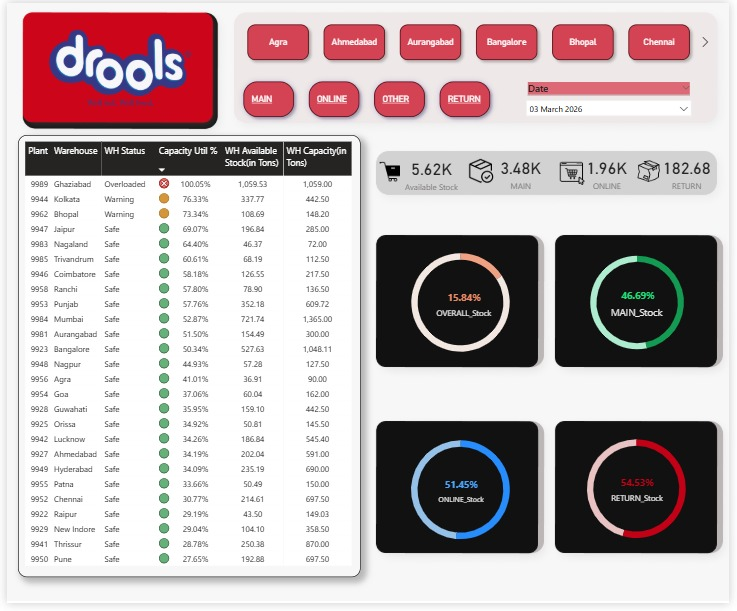

This screenshot's page, from the dashboard's own definition file:
{"tool":"powerbi","page":{"name":"Page 1","canvas":[1203,1000],"ordinal":0},"visuals":[{"type":"tableEx","fields":{"Values":["Stock_Data.Plant","Stock_Data.Warehouse_Name","Material_Weight_Master.Warehouse Status","Material_Weight_Master.Capacity Util %","Material_Weight_Master.Total Stock MT (Measure)","Material_Weight_Master.Selected Capacity MT"]},"box":[18.6,220,571.4,737.1],"z":0},{"type":"advancedSlicerVisual","fields":{"Values":["Stock_Data.Category_Location"]},"box":[357.1,112.9,488.6,94.3],"z":1000},{"type":"advancedSlicerVisual","fields":{"Values":["Stock_Data.Warehouse_Name"]},"box":[362.9,18.6,815.7,94.3],"z":2000},{"type":"slicer","fields":{"Values":["Stock_Data.Inventory_Date"]},"box":[854.3,127.1,295.7,64.3],"z":3000},{"type":"donutChart","fields":{"Y":["Material_Weight_Master.Stock ONLINE (WH)","Material_Weight_Master.Free ONLINE"]},"box":[625,703.3,261.4,215.7],"z":4000},{"type":"donutChart","fields":{"Y":["Material_Weight_Master.Stock OVERALL","Material_Weight_Master.Free OVERALL"]},"box":[625,391.7,261.7,215],"z":5000},{"type":"donutChart","fields":{"Y":["Material_Weight_Master.Stock MAIN","Material_Weight_Master.Free MAIN"]},"box":[910,396.7,280.4,205],"z":6000,"group":"g1"},{"type":"donutChart","fields":{"Y":["Material_Weight_Master.Stock RETURN","Material_Weight_Master.Free RETURN"]},"box":[918.3,701.7,261,215.7],"z":6000},{"type":"card","fields":{"Values":["Material_Weight_Master.Capacity Util ONLINE %"]},"box":[707.9,783.3,97.1,57.1],"z":7000},{"type":"card","fields":{"Values":["Material_Weight_Master.Capacity Util OVERALL %"]},"box":[691,468.6,139.8,64.3],"z":8000},{"type":"card","fields":{"Values":["Material_Weight_Master.Capacity Util MAIN %"]},"box":[999.5,470.6,102.7,58.6],"z":9000,"group":"g1"},{"type":"card","fields":{"Values":["Material_Weight_Master.Capacity Util RETURN %"]},"box":[995.9,778.8,107.2,61.4],"z":9000},{"type":"group","id":"g1","title":"Group 2","box":[910,396.7,271.7,205],"z":10000},{"type":"card","fields":{"Values":["Material_Weight_Master.Stock MAIN"]},"box":[805.7,245.7,102.9,72.9],"z":11000},{"type":"image","box":[590,258.6,95.7,44.3],"z":12000},{"type":"card","fields":{"Values":["Material_Weight_Master.Stock ONLINE"]},"box":[948.6,245.7,102.9,72.9],"z":13000},{"type":"card","fields":{"Values":["Material_Weight_Master.Stock OVERALL"]},"box":[656.7,250,101.7,68.3],"z":14000},{"type":"card","fields":{"Values":["Material_Weight_Master.Stock RETURN"]},"box":[1084.3,245.7,95.7,72.9],"z":15000},{"type":"image","box":[748.3,251.7,83.3,58.3],"z":16000},{"type":"image","box":[1025.7,252.9,88.6,50],"z":17000},{"type":"image","box":[908.6,258.6,67.1,51.4],"z":18000}]}

Visuals, with their boxes in screenshot pixels (x1, y1, x2, y2), scaled from the page's 1203x1000 canvas onto the 737x611 screenshot:
tableEx - Stock_Data.Plant x Stock_Data.Warehouse_Name: l=11, t=134, r=361, b=585
advancedSlicerVisual - Stock_Data.Category_Location: l=219, t=69, r=518, b=127
advancedSlicerVisual - Stock_Data.Warehouse_Name: l=222, t=11, r=722, b=69
slicer - Stock_Data.Inventory_Date: l=523, t=78, r=705, b=117
donutChart - Material_Weight_Master.Stock ONLINE (WH) x Material_Weight_Master.Free ONLINE: l=383, t=430, r=543, b=562
donutChart - Material_Weight_Master.Stock OVERALL x Material_Weight_Master.Free OVERALL: l=383, t=239, r=543, b=371
donutChart - Material_Weight_Master.Stock MAIN x Material_Weight_Master.Free MAIN: l=557, t=242, r=729, b=368
donutChart - Material_Weight_Master.Stock RETURN x Material_Weight_Master.Free RETURN: l=563, t=429, r=722, b=561
card - Material_Weight_Master.Capacity Util ONLINE %: l=434, t=479, r=493, b=513
card - Material_Weight_Master.Capacity Util OVERALL %: l=423, t=286, r=509, b=326
card - Material_Weight_Master.Capacity Util MAIN %: l=612, t=288, r=675, b=323
card - Material_Weight_Master.Capacity Util RETURN %: l=610, t=476, r=676, b=513
"Group 2" group: l=557, t=242, r=724, b=368
card - Material_Weight_Master.Stock MAIN: l=494, t=150, r=557, b=195
image: l=361, t=158, r=420, b=185
card - Material_Weight_Master.Stock ONLINE: l=581, t=150, r=644, b=195
card - Material_Weight_Master.Stock OVERALL: l=402, t=153, r=465, b=194
card - Material_Weight_Master.Stock RETURN: l=664, t=150, r=723, b=195
image: l=458, t=154, r=509, b=189
image: l=628, t=155, r=683, b=185
image: l=557, t=158, r=598, b=189
